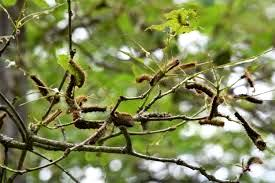Caterpillar: (135, 53, 182, 87), (69, 94, 106, 137), (27, 75, 62, 111), (63, 54, 89, 91), (183, 77, 214, 99), (198, 114, 225, 128), (176, 11, 190, 29), (240, 74, 254, 88)
